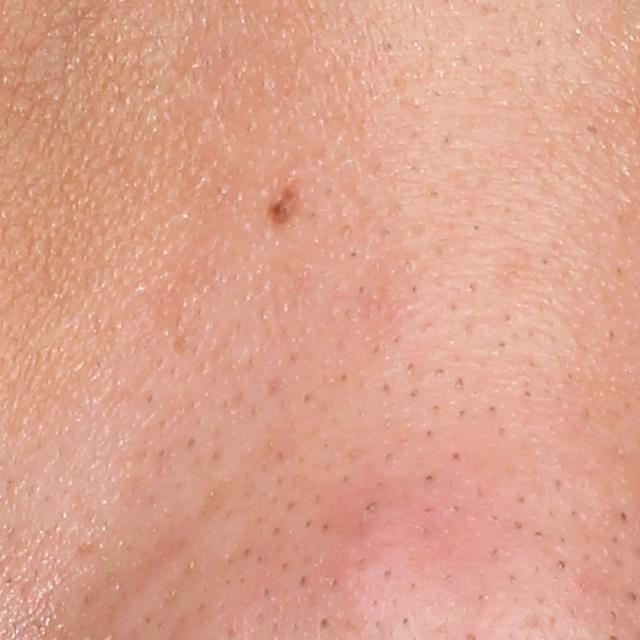comedo: (314, 612, 335, 631)
